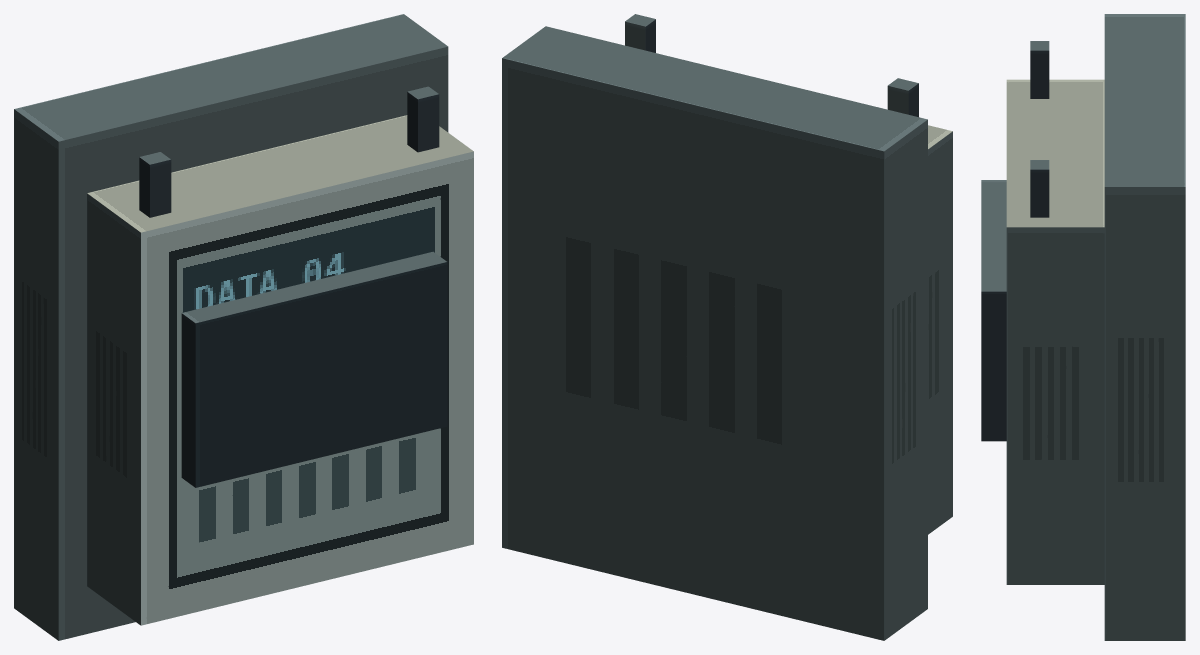
Rendered from router_mural.glb.
3 views of the same model, side by side, from view 1: azimuth 30°, elevation 25°; view 2: azimuth 150°, elevation 25°; view 3: azimuth 270°, elevation 25° (orthographic). The views are drawn at different scales.
Parts seen in each view (by area): view 1: EQUIPO; view 2: EQUIPO; view 3: EQUIPO.
Part boxes in pixels (x1=…): EQUIPO: x1=14, y1=14, x2=473, y2=640; EQUIPO: x1=502, y1=14, x2=952, y2=640; EQUIPO: x1=981, y1=14, x2=1185, y2=640.
Bounding box in the file's own units: 0.2926 × 0.3581 × 0.1463.
Materials: 1 (1 with a texture image).
